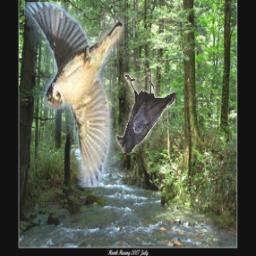Crow: (116, 72, 176, 153)
Sparrow: (24, 2, 124, 187)
